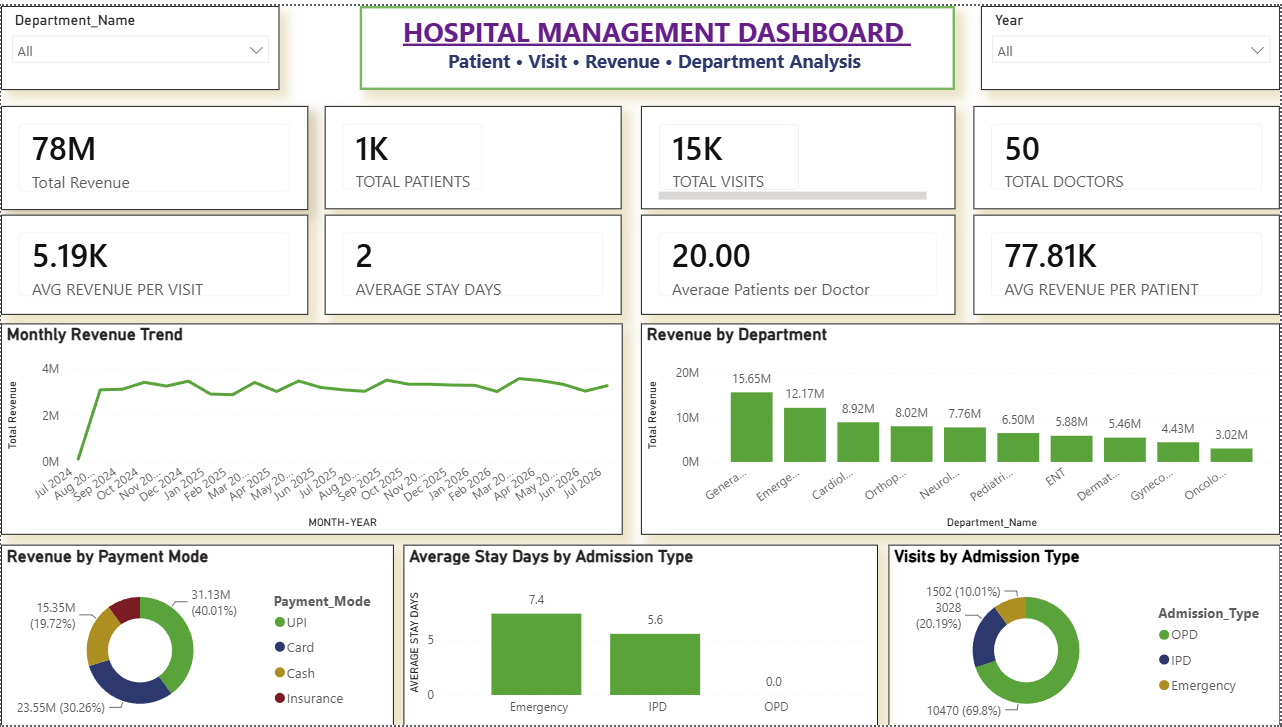

The page's visual inventory and layout, read from the dashboard file:
{"tool":"powerbi","page":{"name":"Page 1","canvas":[1280,720],"ordinal":0},"visuals":[{"type":"cardVisual","fields":{"Data":["Visits.Total Revenue"]},"box":[0,100,307.1,104.3],"z":0},{"type":"cardVisual","title":"Total Patients","fields":{"Data":["Visits.TOTAL_PATIENTS"]},"box":[324.3,100,297.1,102.9],"z":1000},{"type":"cardVisual","fields":{"Data":["Visits.TOTAL_VISITS"]},"box":[640,100,314.3,102.9],"z":2000},{"type":"cardVisual","fields":{"Data":["Doctors(1).TOTAL_DOCTORS"]},"box":[972.9,100,307.1,102.9],"z":3000},{"type":"cardVisual","fields":{"Data":["Visits.AVG_REV_PER_VISIT"]},"box":[0,208.6,307.1,100],"z":4000},{"type":"cardVisual","fields":{"Data":["Visits.AVERAGE STAY DAYS"]},"box":[324.3,208.6,297.1,100],"z":5000},{"type":"cardVisual","fields":{"Data":["Visits.AVG REVENUE PER PATIENT"]},"box":[972.9,208.6,307.1,100],"z":6000},{"type":"cardVisual","fields":{"Data":["Visits.Average Patients per Doctor"]},"box":[640,208.6,314.3,100],"z":7000},{"type":"lineChart","title":"Monthly Revenue Trend","fields":{"Category":["DateTable.MONTH-YEAR"],"Y":["Visits.Total Revenue"]},"box":[0,317.1,621.4,211.4],"z":8000},{"type":"clusteredColumnChart","title":"Revenue by Department","fields":{"Category":["Departments(1).Department_Name"],"Y":["Visits.Total Revenue"]},"box":[640,317.1,640,211.4],"z":9000},{"type":"donutChart","title":"Visits by Admission Type","fields":{"Category":["Visits.Admission_Type"],"Y":["Visits.TOTAL VISITS"]},"box":[887.1,538.6,392.9,181.4],"z":10000},{"type":"donutChart","title":"Revenue by Payment Mode","fields":{"Category":["Visits.Payment_Mode"],"Y":["Visits.Total Revenue"]},"box":[0,538.6,392.9,181.4],"z":11000},{"type":"clusteredColumnChart","title":"Average Stay Days by Admission Type","fields":{"Category":["Visits.Admission_Type"],"Y":["Visits.AVERAGE STAY DAYS"]},"box":[402.9,538.6,474.3,181.4],"z":12000},{"type":"textbox","box":[358.3,0,595.5,84.4],"z":13000},{"type":"slicer","fields":{"Values":["DateTable.Year"]},"box":[980,0,300,84.3],"z":14000},{"type":"slicer","fields":{"Values":["Departments(1).Department_Name"]},"box":[0,0,278.6,84.3],"z":15000}]}

Visuals, with their boxes in screenshot pixels (x1, y1, x2, y2), scaled from the page's 1280x720 canvas onto the 1282x727 screenshot:
cardVisual - Visits.Total Revenue: (left=0, top=101, right=308, bottom=206)
"Total Patients" cardVisual: (left=325, top=101, right=622, bottom=205)
cardVisual - Visits.TOTAL_VISITS: (left=641, top=101, right=956, bottom=205)
cardVisual - Doctors(1).TOTAL_DOCTORS: (left=974, top=101, right=1281, bottom=205)
cardVisual - Visits.AVG_REV_PER_VISIT: (left=0, top=211, right=308, bottom=312)
cardVisual - Visits.AVERAGE STAY DAYS: (left=325, top=211, right=622, bottom=312)
cardVisual - Visits.AVG REVENUE PER PATIENT: (left=974, top=211, right=1281, bottom=312)
cardVisual - Visits.Average Patients per Doctor: (left=641, top=211, right=956, bottom=312)
"Monthly Revenue Trend" lineChart: (left=0, top=320, right=622, bottom=534)
"Revenue by Department" clusteredColumnChart: (left=641, top=320, right=1281, bottom=534)
"Visits by Admission Type" donutChart: (left=888, top=544, right=1281, bottom=726)
"Revenue by Payment Mode" donutChart: (left=0, top=544, right=394, bottom=726)
"Average Stay Days by Admission Type" clusteredColumnChart: (left=404, top=544, right=879, bottom=726)
textbox: (left=359, top=0, right=955, bottom=85)
slicer - DateTable.Year: (left=982, top=0, right=1281, bottom=85)
slicer - Departments(1).Department_Name: (left=0, top=0, right=279, bottom=85)
